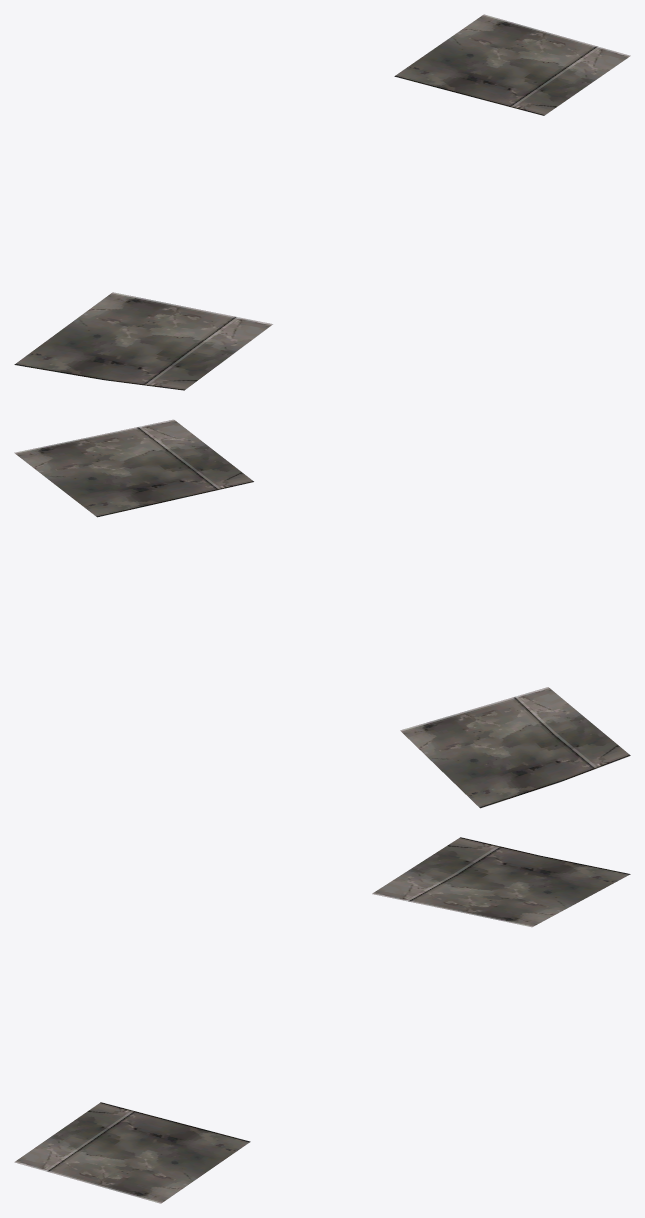
Rendered from CH09_SMAUG_PLAYSURFACE_LAIR144.fbx.
The picture shows the model from 3 angles, top to bottom: view 1: azimuth 90°, elevation 25°; view 2: azimuth 150°, elevation 25°; view 3: azimuth 270°, elevation 25°; orthographic projection.
Visible parts, largest first — view 1: CH09_SMAUG_PLAYSURFACE_LAIR144; view 2: CH09_SMAUG_PLAYSURFACE_LAIR144; view 3: CH09_SMAUG_PLAYSURFACE_LAIR144.
Boxes of the visible parts, box(x1,y1,x2,y2) form: CH09_SMAUG_PLAYSURFACE_LAIR144: box(14, 14, 630, 390); CH09_SMAUG_PLAYSURFACE_LAIR144: box(14, 419, 630, 808); CH09_SMAUG_PLAYSURFACE_LAIR144: box(14, 837, 630, 1203).
Bounding box in the file's own units: 54771 × 716 × 38443.
Materials: 1 (1 with a texture image).
